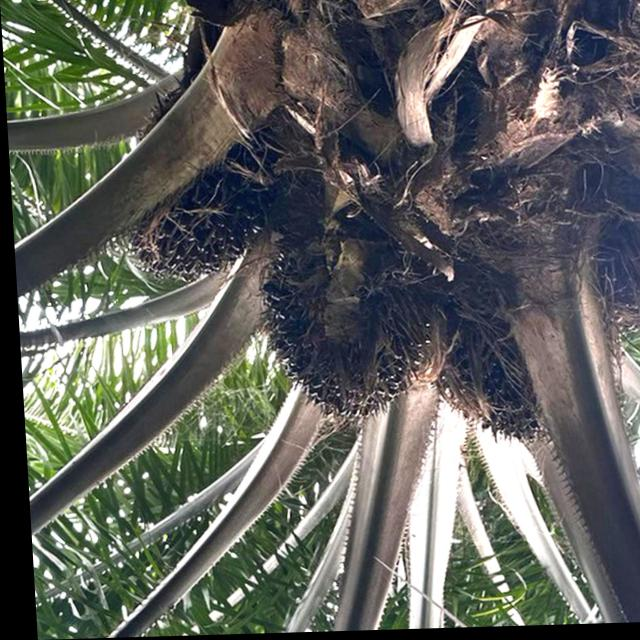unripe: (247, 232, 443, 429)
